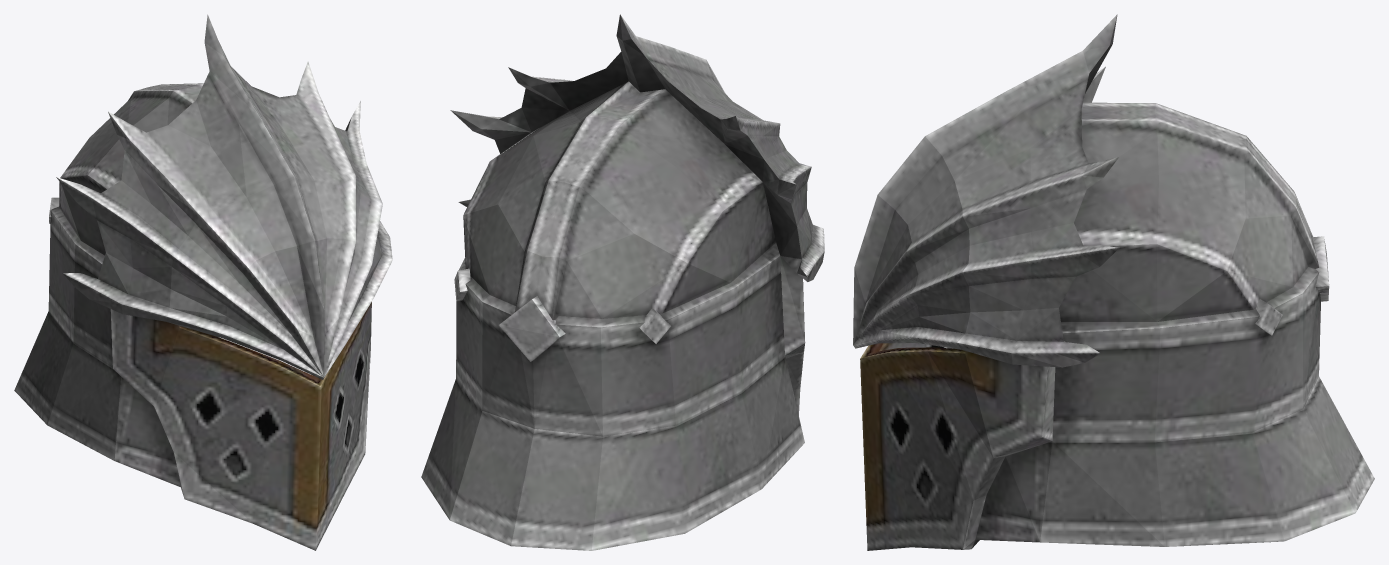
3 views of the same model, side by side, from view 1: azimuth 30°, elevation 25°; view 2: azimuth 150°, elevation 25°; view 3: azimuth 270°, elevation 25° (orthographic). The views are drawn at different scales.
Parts seen in each view (by area): view 1: Helmet; view 2: Helmet; view 3: Helmet.
Boxes of the visible parts, left/top/right/bottom form: Helmet: left=14, top=14, right=392, bottom=550; Helmet: left=421, top=14, right=824, bottom=550; Helmet: left=853, top=14, right=1374, bottom=550.
Bounding box in the file's own units: 24.34 × 34.1 × 30.07.
1 material, 1 textured.
